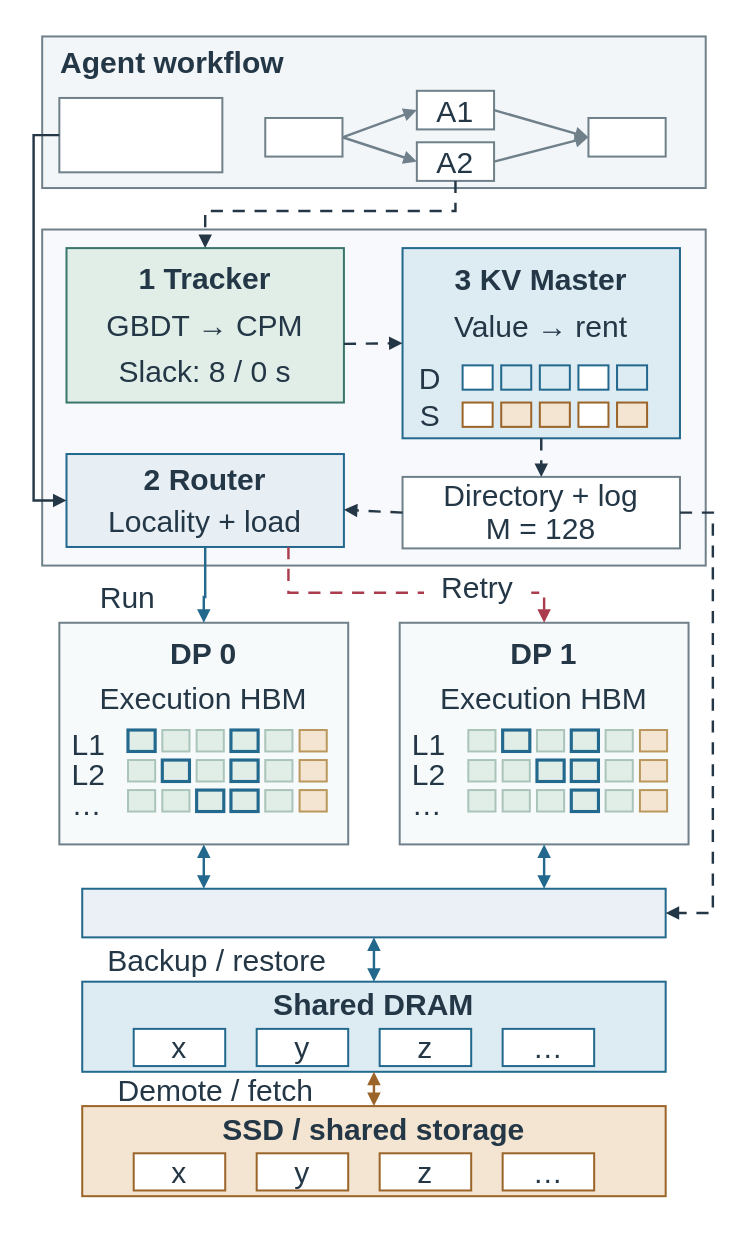
This 749x1243 diagram has some shape labels left out. The box of each missing label's shape, as (x1, y1, x2, y2) in pixels:
A0: (264, 116, 343, 157)
A3: (587, 116, 666, 157)
Engine hooks + KV transfer: (81, 887, 666, 938)
Request IDs: (58, 96, 223, 173)
